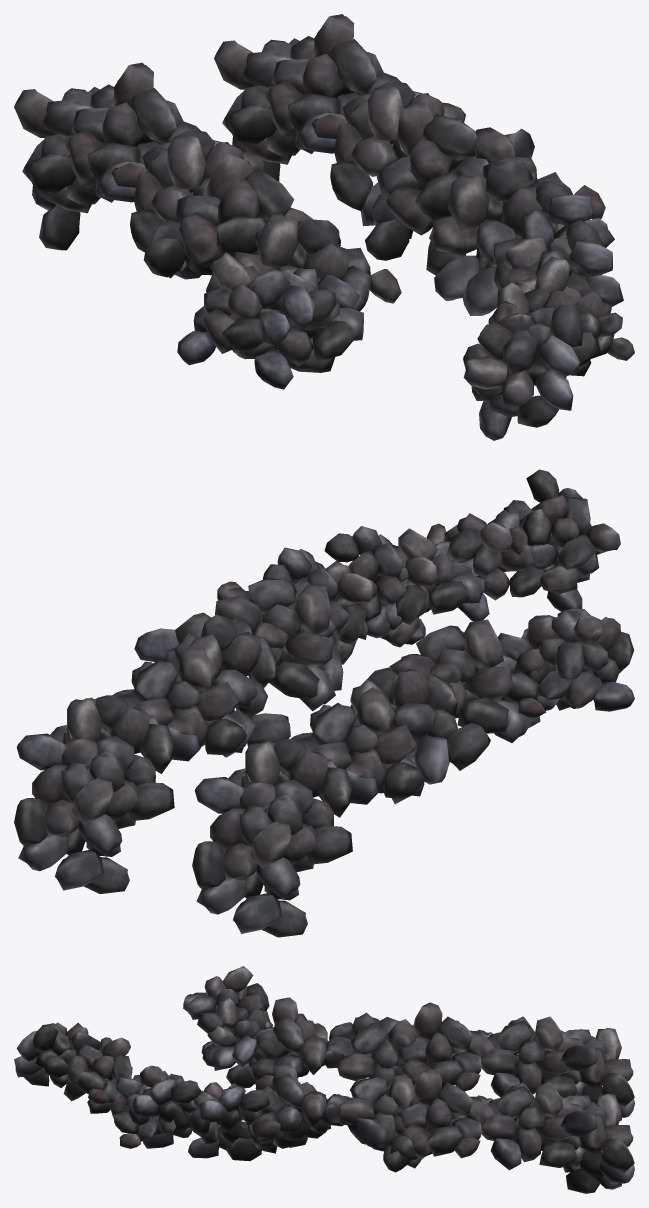
The model's file is 5th stone_piles3.FBX.
3 views of the same model, one above another, from view 1: azimuth 30°, elevation 25°; view 2: azimuth 150°, elevation 25°; view 3: azimuth 270°, elevation 25° (orthographic). The views are drawn at different scales.
Parts seen in each view (by area): view 1: stone_pile3; view 2: stone_pile3; view 3: stone_pile3.
Boxes of the visible parts, x1=… form: stone_pile3: x1=14, y1=14, x2=634, y2=440; stone_pile3: x1=14, y1=469, x2=634, y2=937; stone_pile3: x1=14, y1=966, x2=634, y2=1193.
Bounding box in the file's own units: 7.86 × 3.38 × 13.85.
